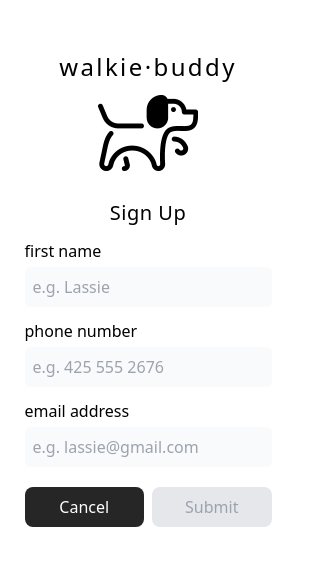
Test case: User Journey › Invalidate fields
Step 1. Type "123" into the field with test id "textfield-input-name" → (149, 287), box [25,267,272,307]
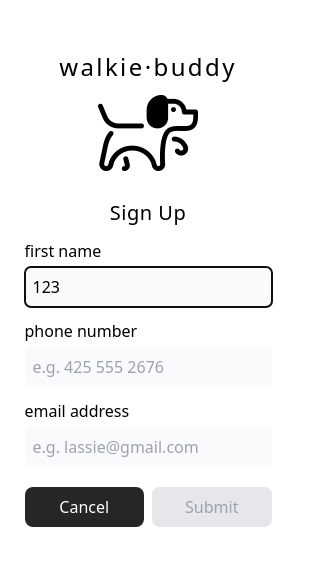
Step 2. Type "steve" into the field with test id "textfield-input-phone" → (149, 367), box [25,347,272,387]
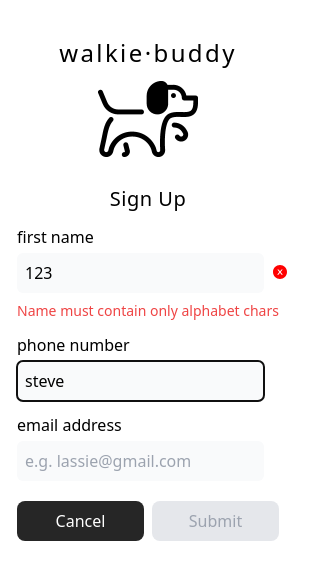
Step 3. Type "steve#@$" into the field with test id "textfield-input-email" → (141, 461), box [17,441,264,481]
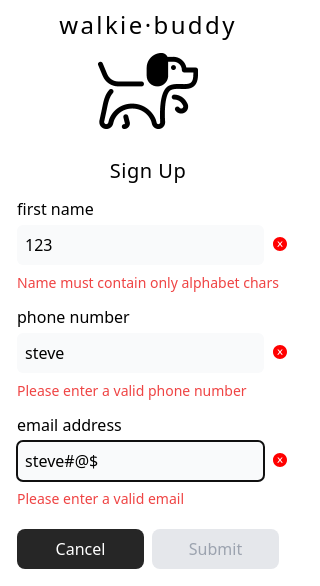
Expected: the icon with test id "validation-name-invalid" is shown, [272,236,288,252]
Expected: the icon with test id "validation-phone-invalid" is shown, [272,344,288,360]
Expected: the icon with test id "validation-email-invalid" is shown, [272,452,288,468]
